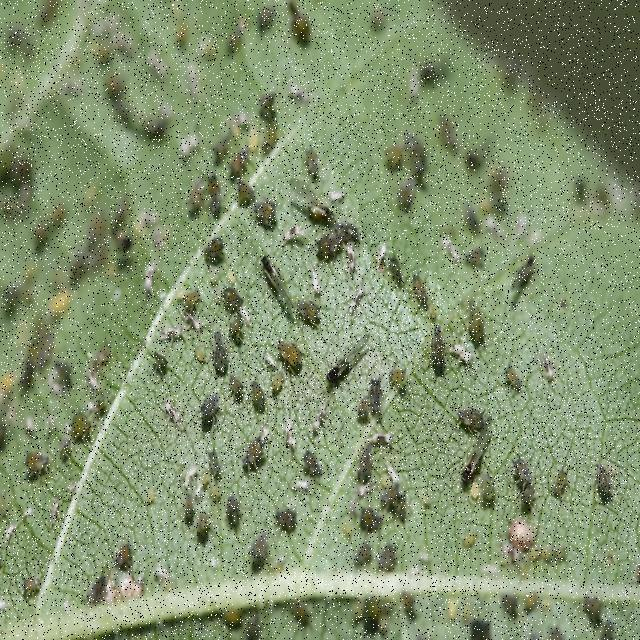Aphids: (311, 209, 359, 268), (272, 331, 310, 378), (424, 317, 451, 377), (411, 259, 436, 317)
